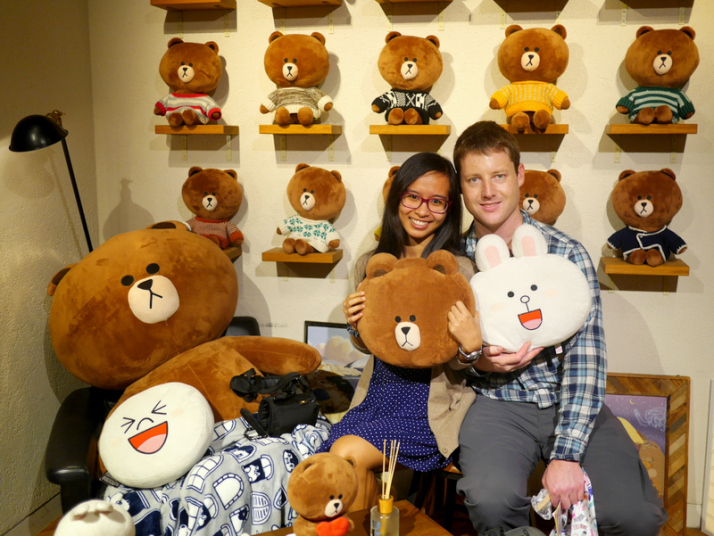line_brown: (35, 210, 253, 389), (340, 243, 483, 372), (604, 162, 688, 233), (251, 27, 340, 94), (623, 22, 704, 95), (274, 154, 349, 228), (150, 32, 224, 100), (375, 28, 448, 96), (495, 23, 573, 84)
